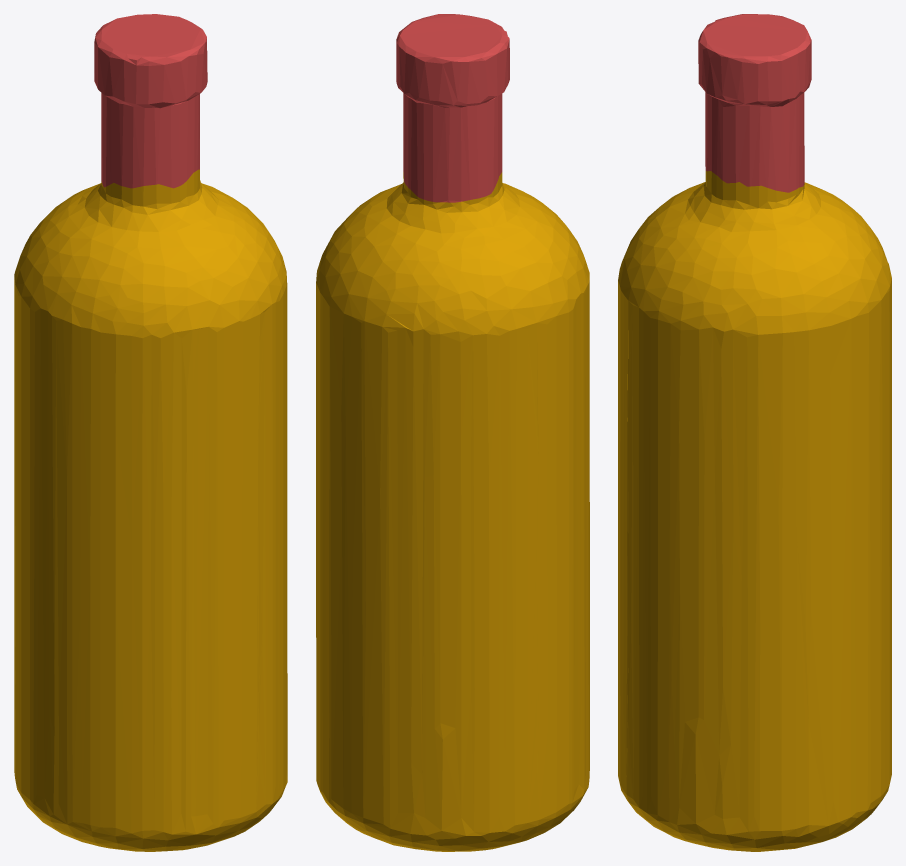
Rendered from fractured_64_2pcs.glb.
3 renders of one model, left to right at view 1: azimuth 30°, elevation 25°; view 2: azimuth 150°, elevation 25°; view 3: azimuth 270°, elevation 25°, orthographic.
Parts seen in each view (by area): view 1: piece_0.obj, piece_1.obj; view 2: piece_0.obj, piece_1.obj; view 3: piece_0.obj, piece_1.obj.
Part boxes in pixels (bbox=[...]): piece_0.obj: bbox=[14, 169, 287, 851]; piece_1.obj: bbox=[94, 14, 207, 188]; piece_0.obj: bbox=[316, 172, 589, 851]; piece_1.obj: bbox=[396, 14, 509, 202]; piece_0.obj: bbox=[618, 171, 891, 851]; piece_1.obj: bbox=[698, 14, 811, 192].
Bounding box in the file's own units: 0.3203 × 1 × 0.3202.
